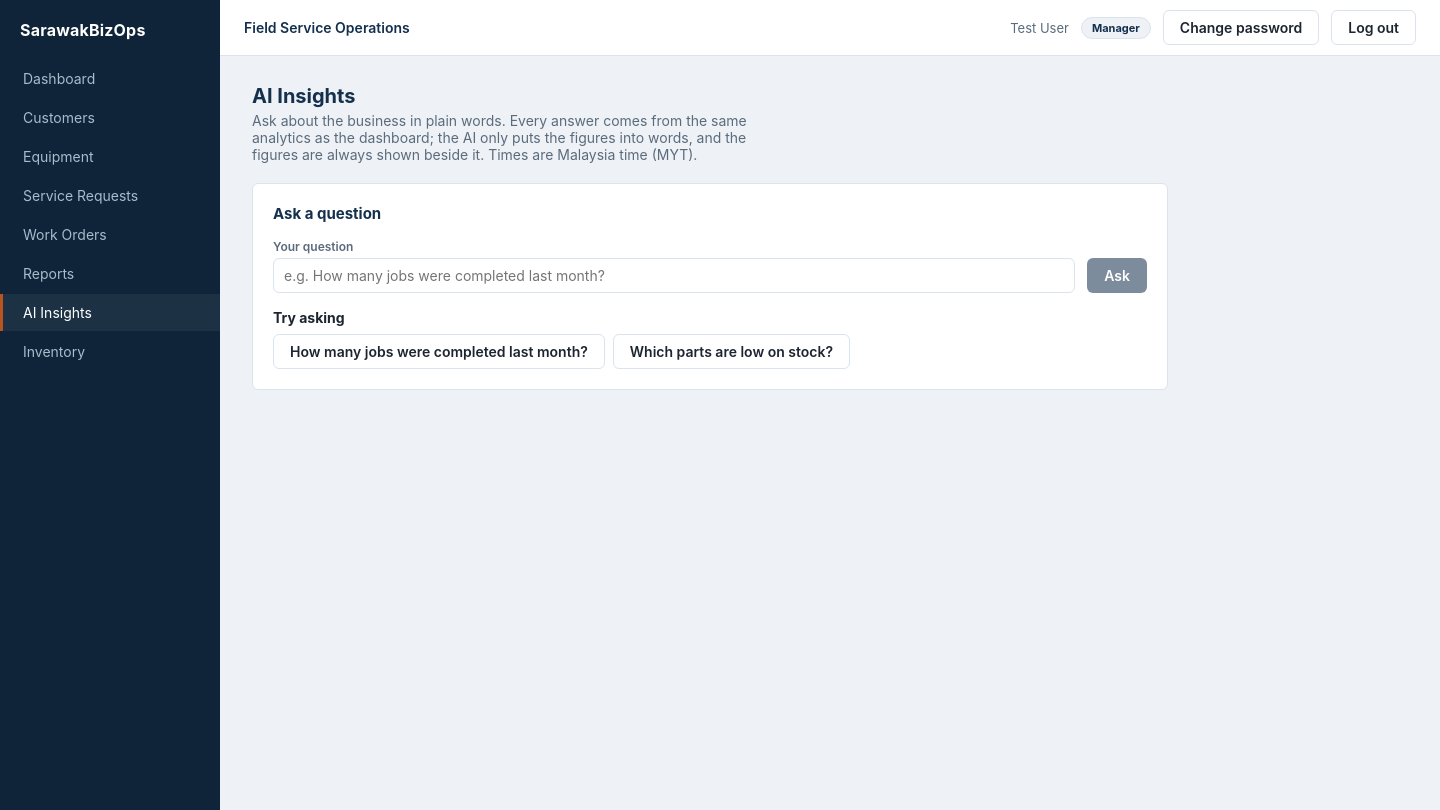
Test: AI Manager Insights › answers an example question with the figures beside the summary
Click the button "How many jobs were completed last month?". click: {"x": 439, "y": 352}
box: [273, 334, 605, 369]
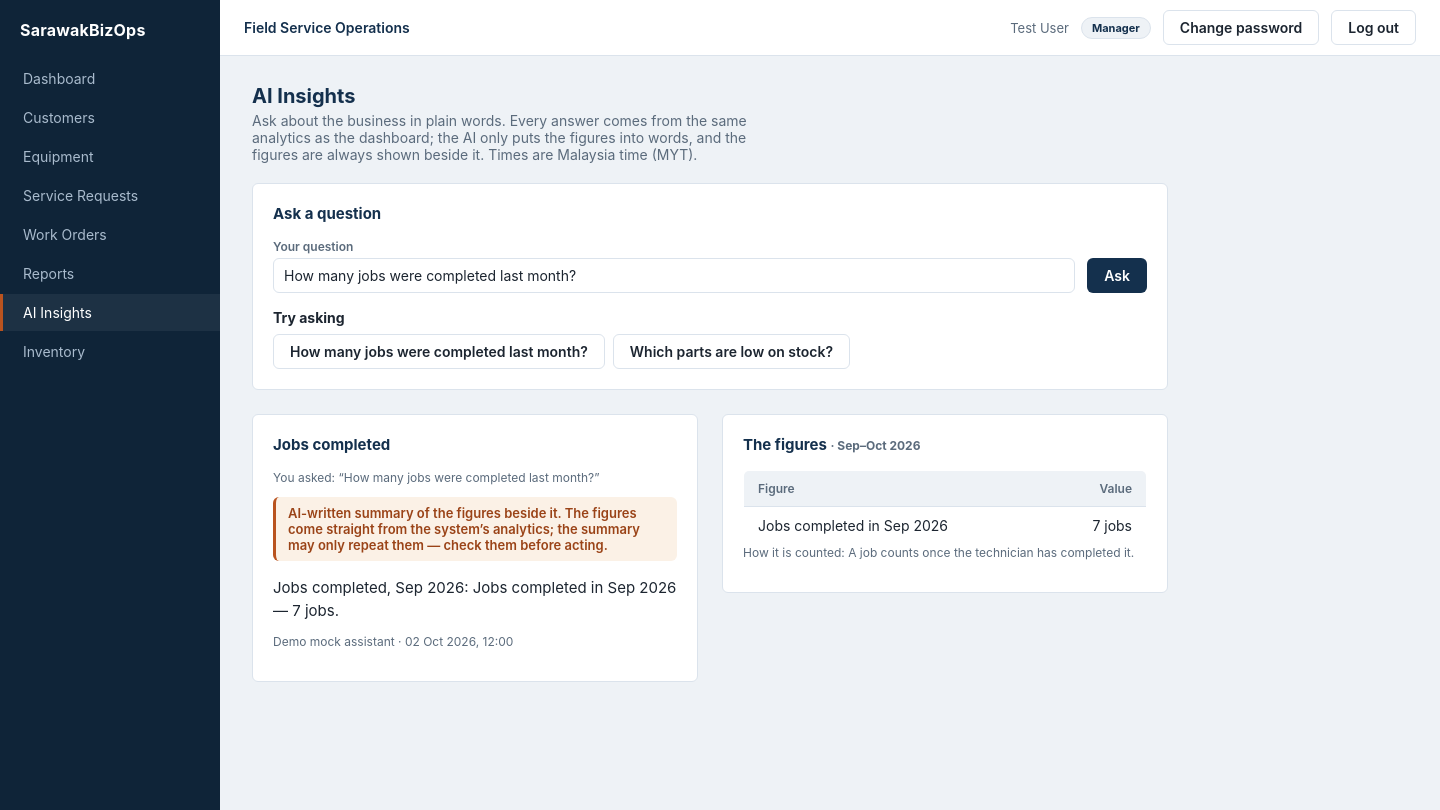
expect the text "the summary may only repeat them" is shown: met, box [288, 505, 640, 553]
expect the text "Jobs completed, Sep 2026: Jobs completed in Sep 2026 — 7 jobs." is shown: met, box [273, 577, 677, 622]
expect the row "Jobs completed in Sep 2026 7 jobs" is shown: met, box [744, 507, 1146, 544]
